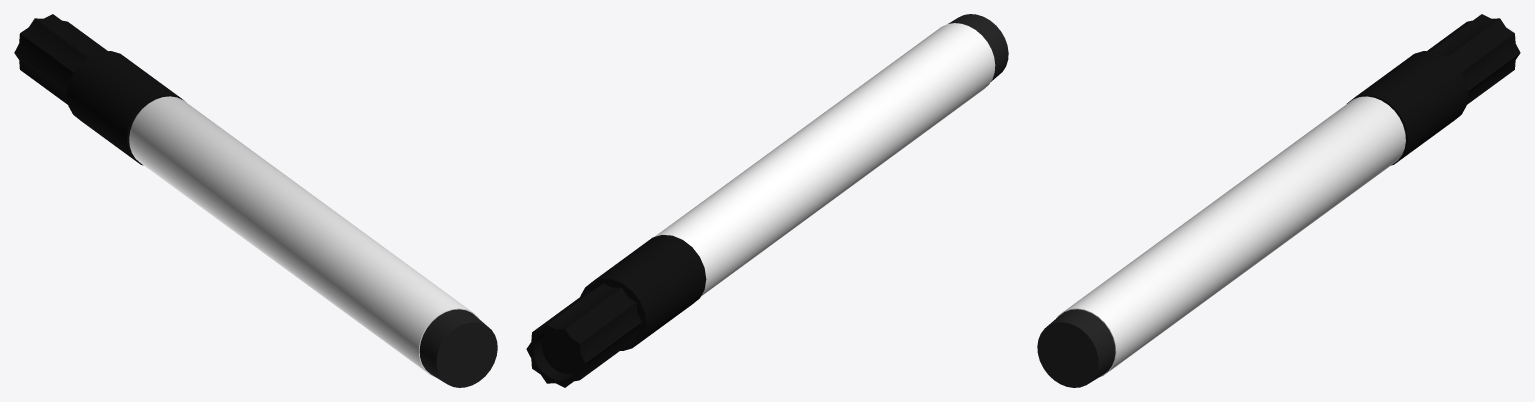
Rendered from baibanbi.fbx.
The picture shows the model from 3 angles, left to right: view 1: azimuth 30°, elevation 25°; view 2: azimuth 150°, elevation 25°; view 3: azimuth 330°, elevation 25°; orthographic projection.
Visible parts, largest first — view 1: polySurface32, pasted__polySurface7; view 2: polySurface32, pasted__polySurface7; view 3: polySurface32, pasted__polySurface7.
Part boxes in pixels (x1,y1,x2,y2): polySurface32: (129, 96, 497, 387); pasted__polySurface7: (14, 14, 184, 165); polySurface32: (654, 14, 1008, 296); pasted__polySurface7: (526, 235, 706, 387); polySurface32: (1037, 96, 1405, 387); pasted__polySurface7: (1347, 14, 1520, 165).
Bounding box in the file's own units: 1.19 × 1.19 × 12.91.
1 material, 1 textured.
